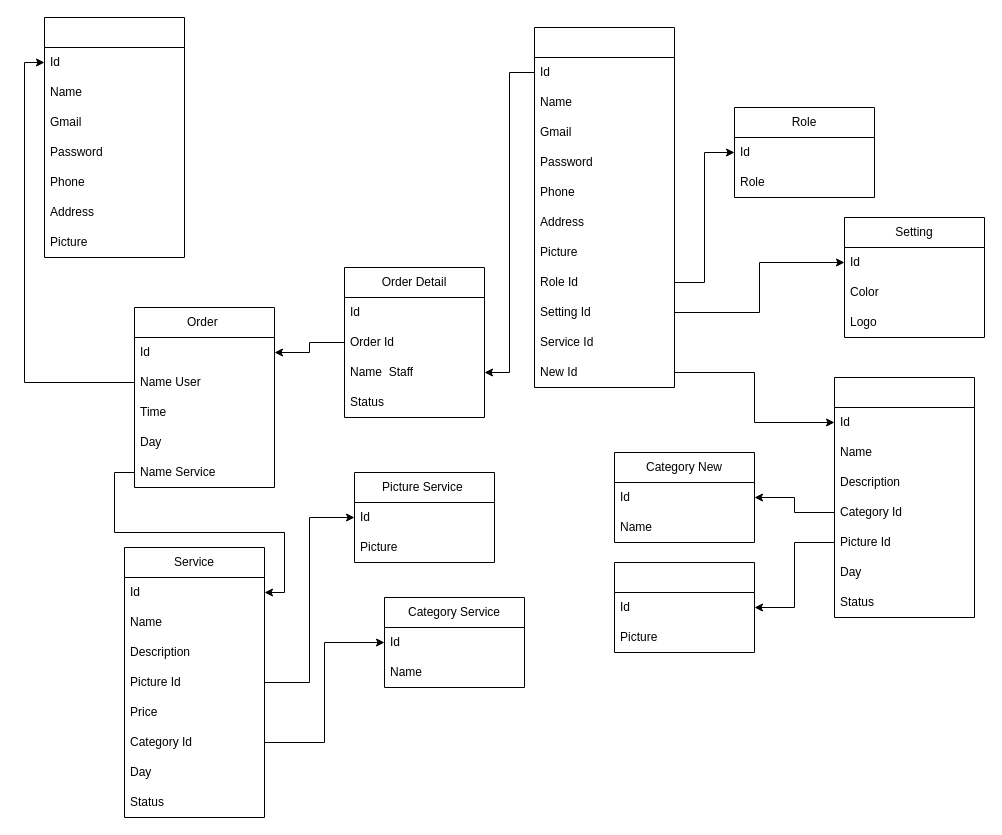
The diagram is 1002 pixels wide and 835 high, and some of its shapes have lost their labels. Each missing label, with the box of its shape:
Admin: (534, 26, 674, 388)
Client: (44, 16, 184, 258)
New: (834, 376, 974, 618)
Picture New: (614, 562, 754, 652)
